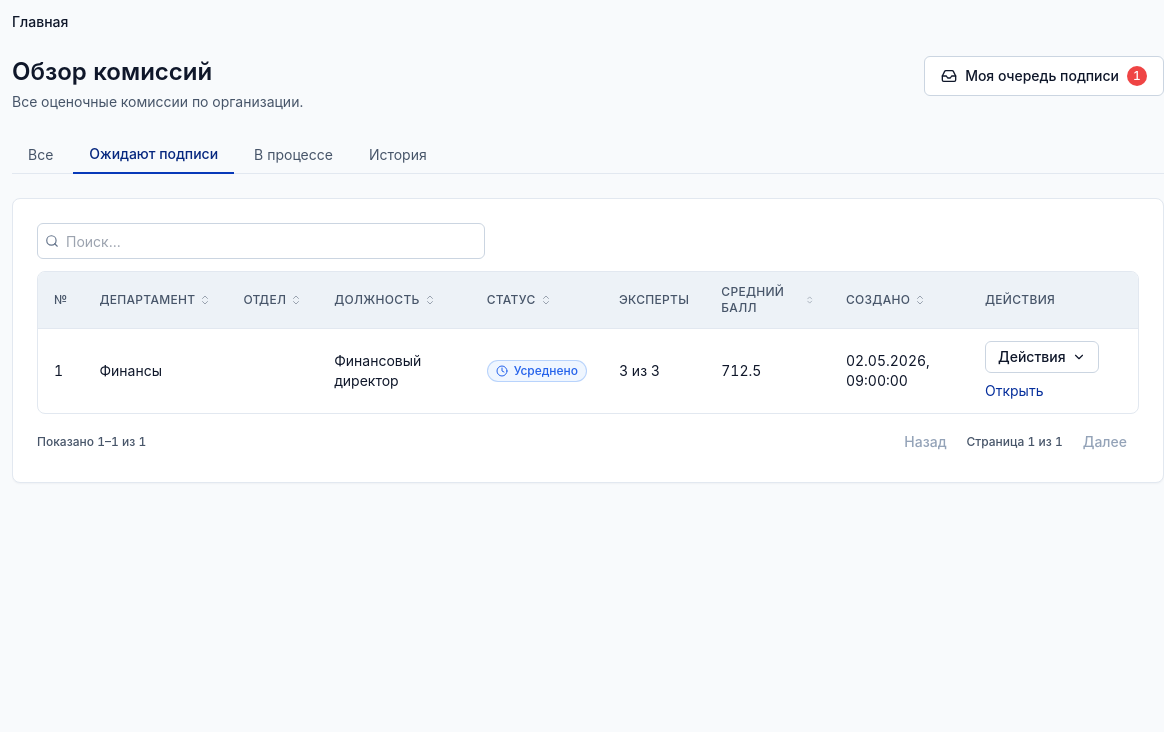
<CeoPanelsPage /> inline sign-off (dropdown UX) › non-pending panel row shows the Open link to panel-detail (no dropdown)
Expected: the element with test id "ceo-panels-table-card" is shown, 12,198 -> 1163,483
Step 1. Click the tab "Все" → coordinates (41, 155), box 12,136 -> 69,174
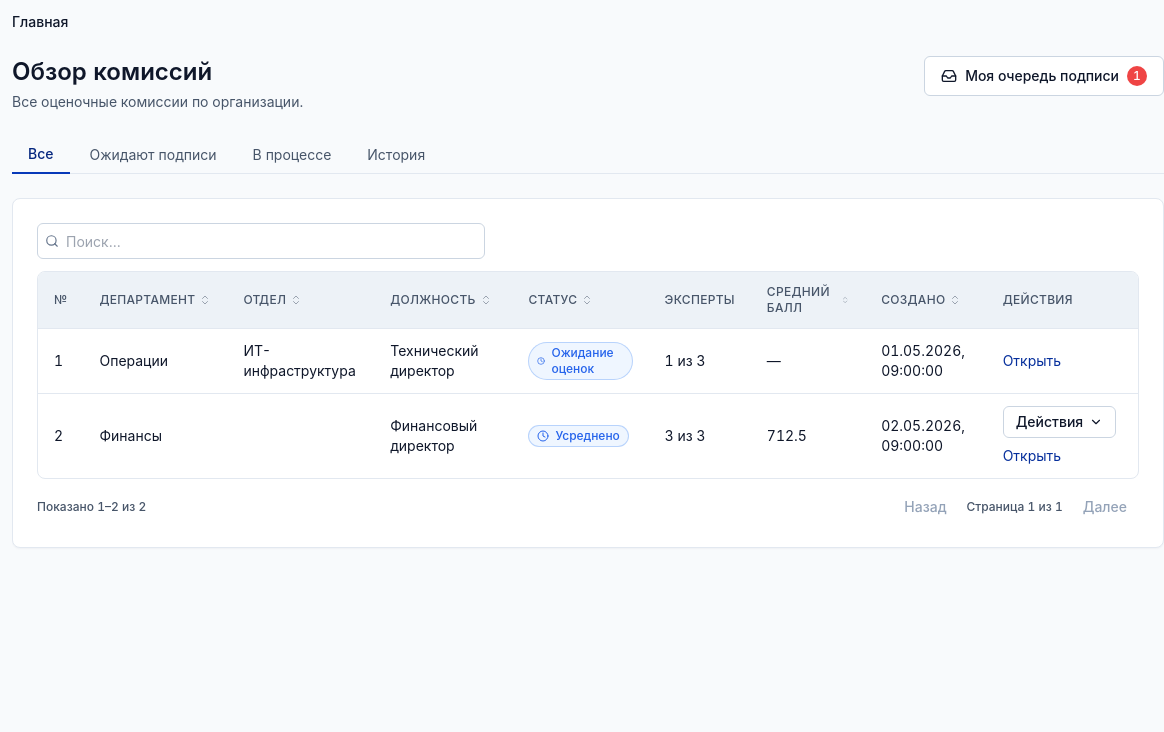
Now the link with test id "ceo-open-panel-panel-cto-collecting" is shown, box 1003,352 -> 1061,369
